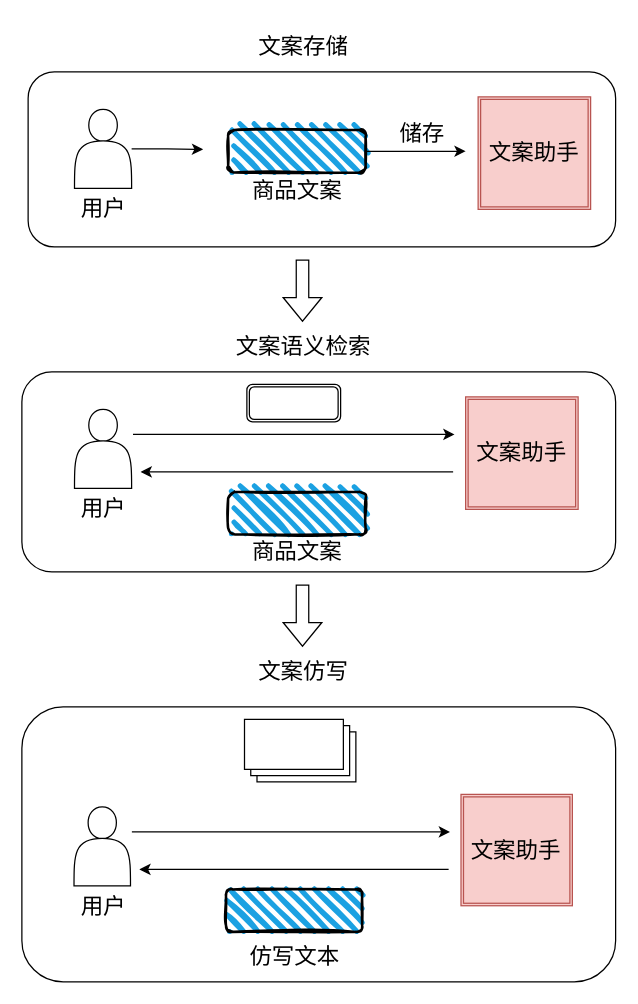
The diagram is 638 pixels wide and 1004 high, and some of its shapes have lost their labels. The centre of each missing label's shape, as x and y in pixels:
"关键词" goes at pixel 293 402.
"示例文本" goes at pixel 299 750.
